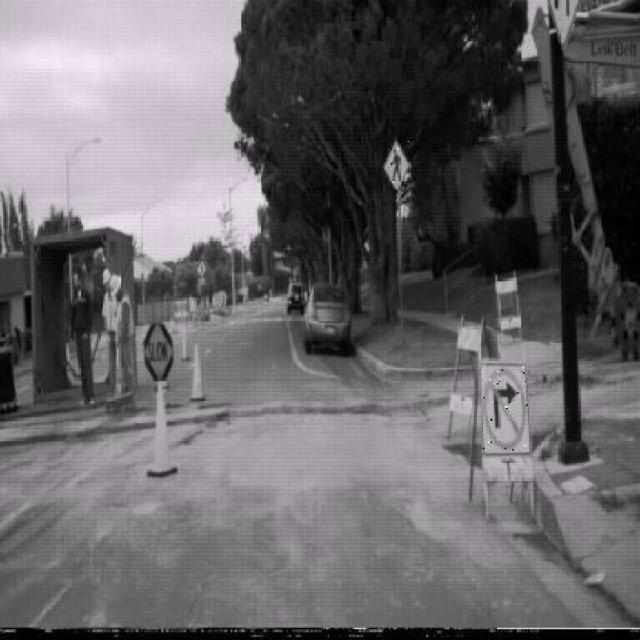noRightTurn: (477, 362, 531, 456)
pedestrianCrossing: (385, 135, 412, 190)
